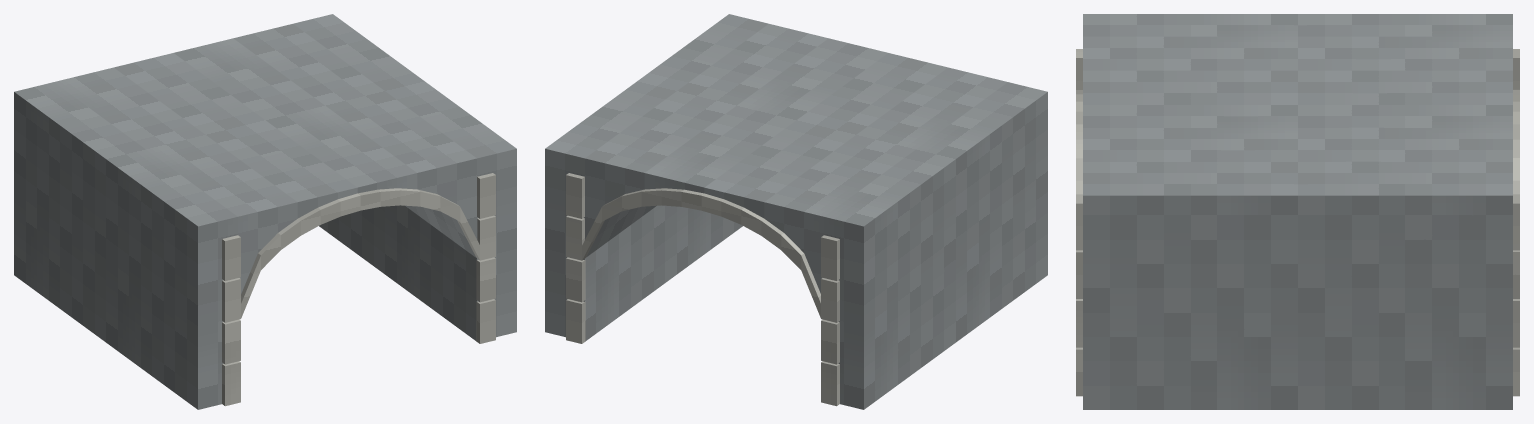
File: dungeon-room-builder-ceiling-vault-3d302e3f__25786.glb
The picture shows the model from 3 angles, left to right: view 1: azimuth 30°, elevation 25°; view 2: azimuth 150°, elevation 25°; view 3: azimuth 270°, elevation 25°; orthographic projection. The views are drawn at different scales.
Visible parts, largest first — view 1: ceiling-vault; view 2: ceiling-vault; view 3: ceiling-vault.
Boxes of the visible parts, bbox=[...] form: ceiling-vault: bbox=[14, 14, 516, 409]; ceiling-vault: bbox=[545, 14, 1047, 409]; ceiling-vault: bbox=[1076, 14, 1519, 409].
Size of the model in its own units: 4 by 2.2 by 4.13.
Materials: 2 (2 with a texture image).
